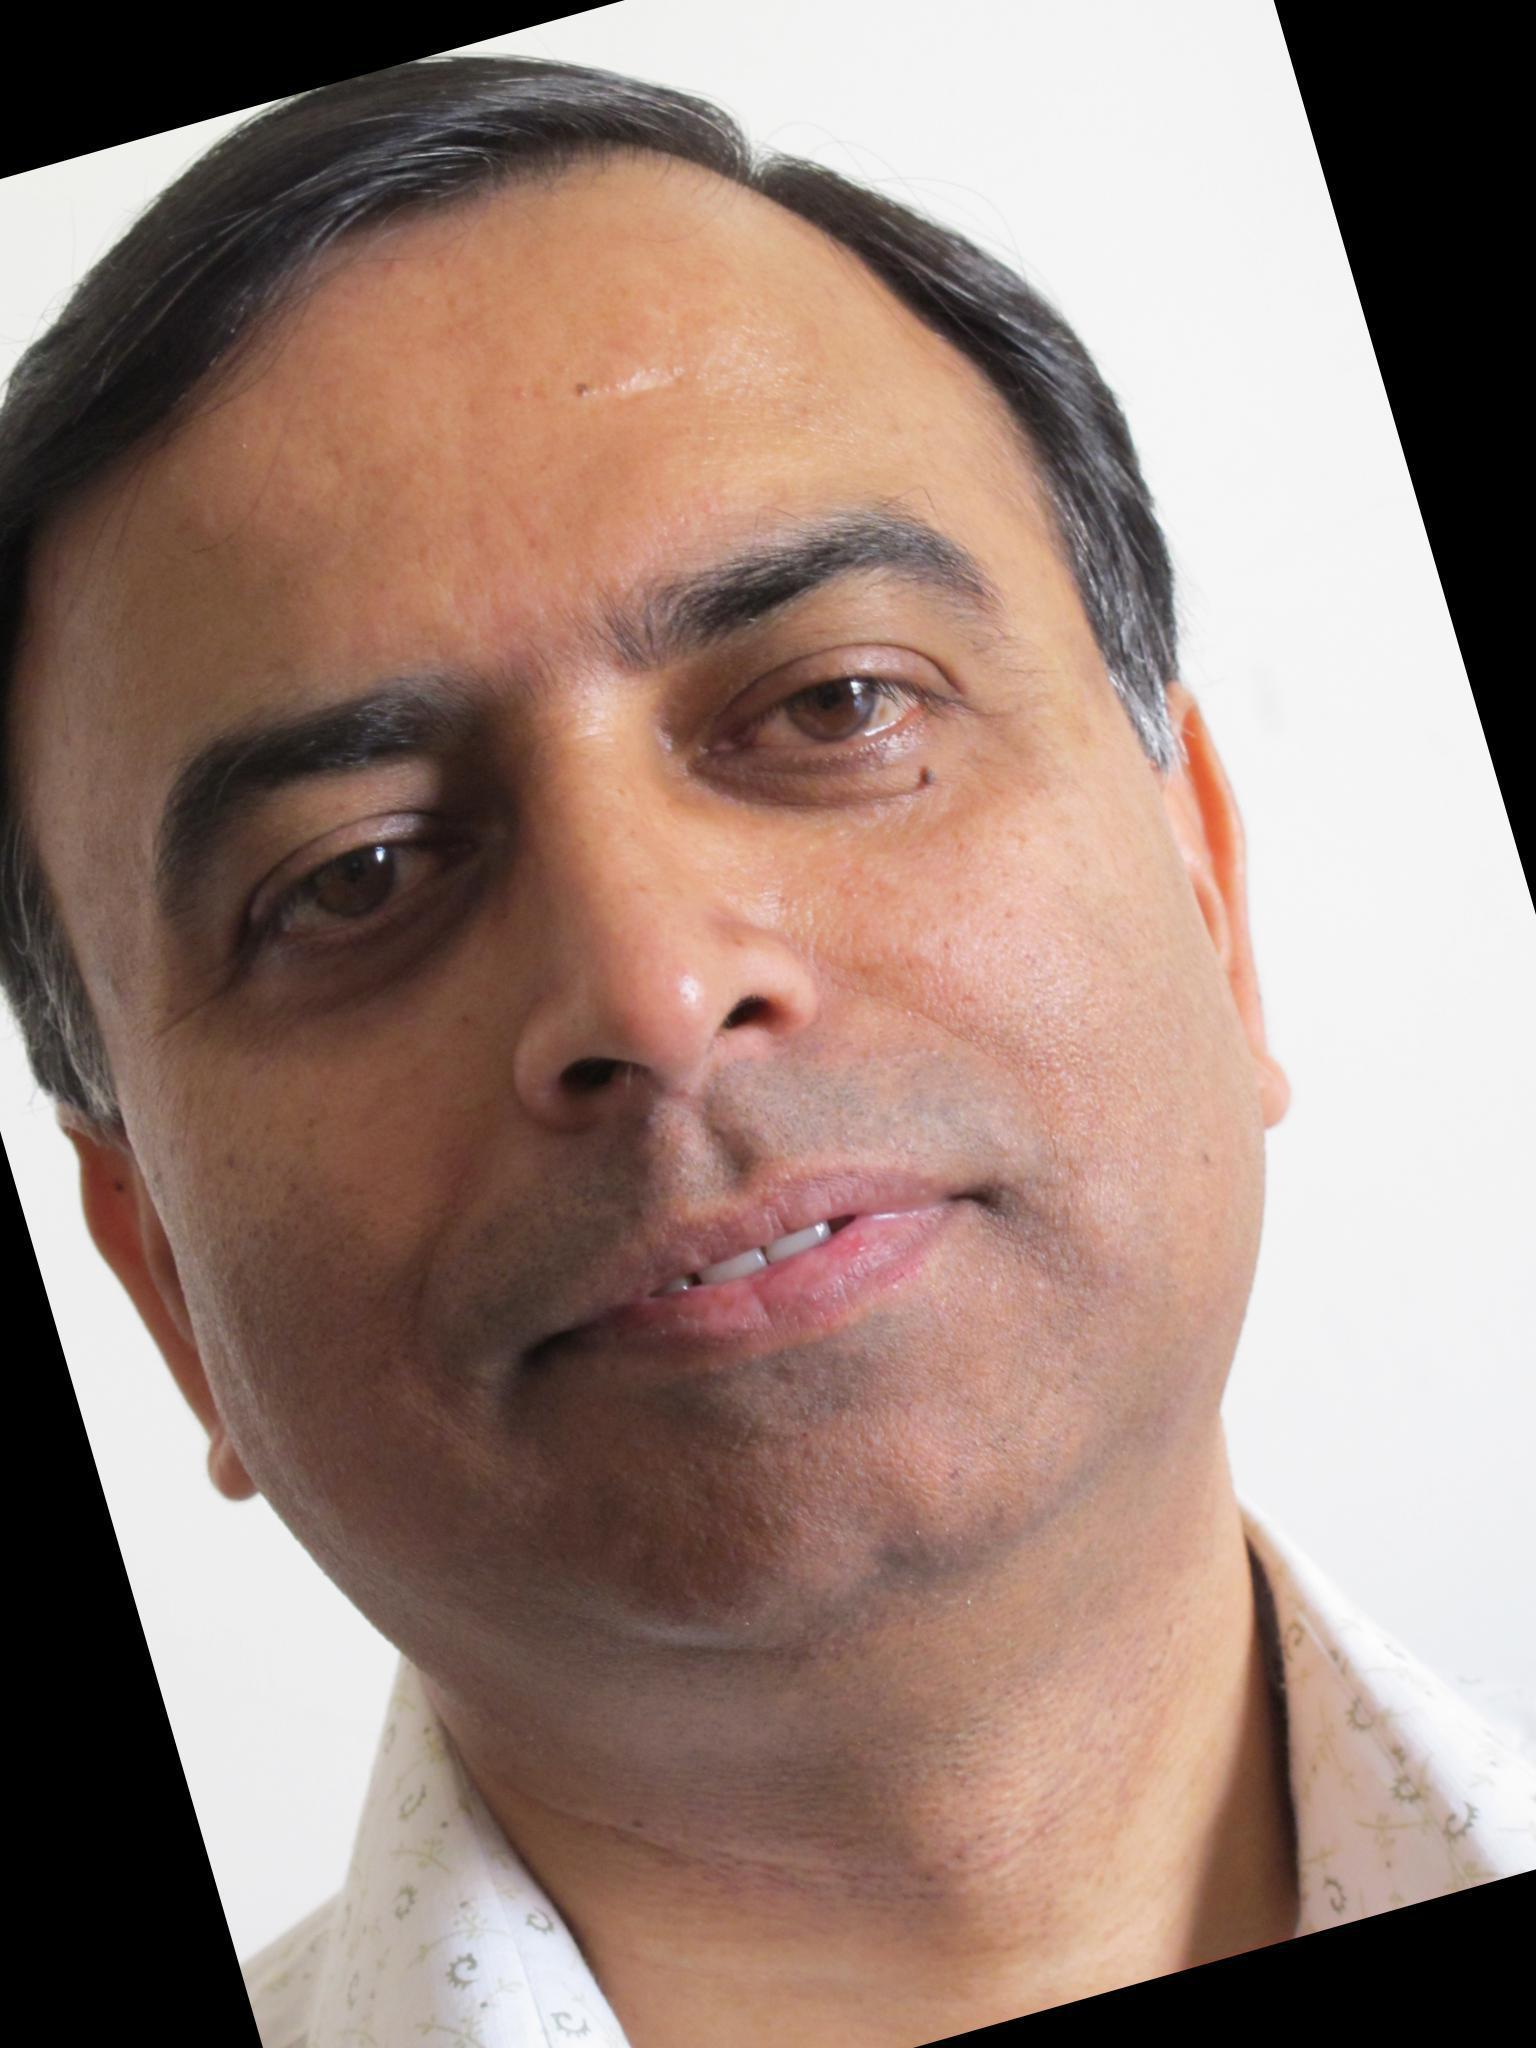Sober: (73, 316, 1176, 1558)
